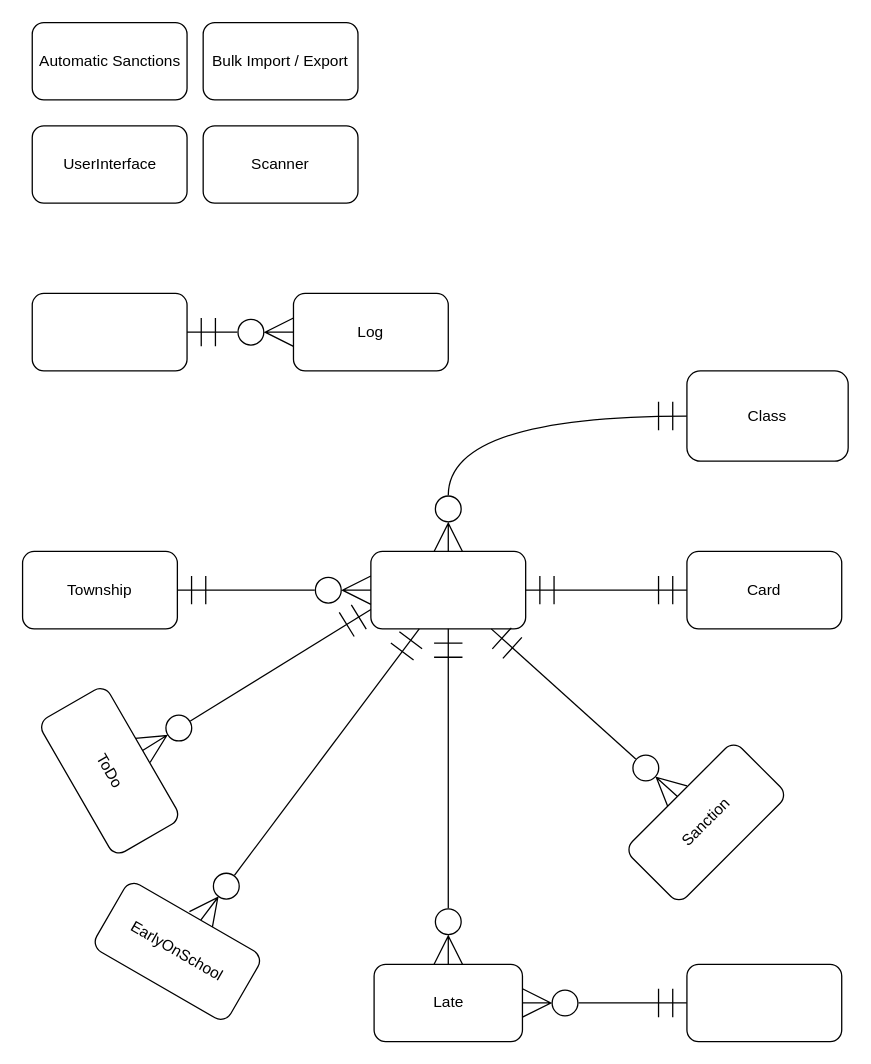
Image size: 871x1064. Some labels were removed from this diagram. The centre of each missing label's shape, as x and y in pixels:
Account: point (109, 331)
Late Reason: point (764, 1002)
Student: point (448, 589)
